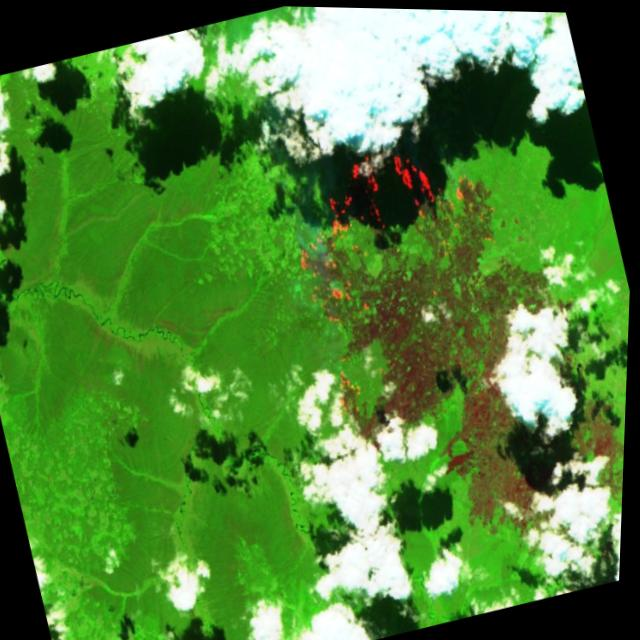fire: (270, 126, 509, 339), (325, 350, 381, 435)
